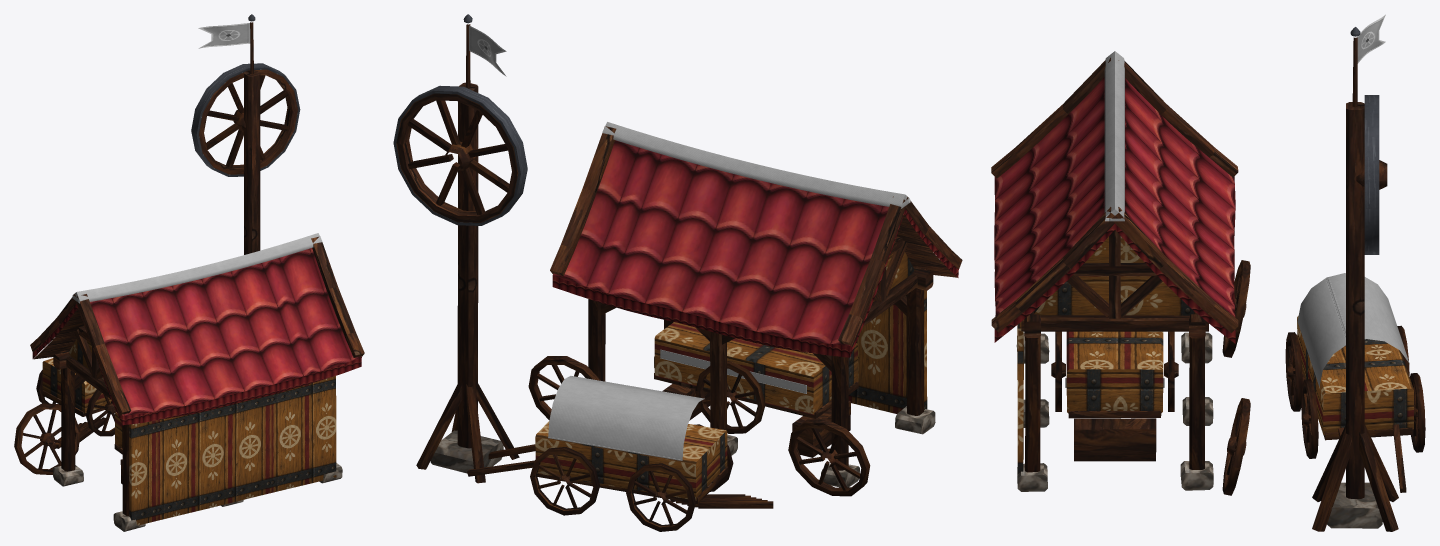
File: kingdom_wainwright_yard.glb
3 renders of one model, left to right at view 1: azimuth 30°, elevation 25°; view 2: azimuth 150°, elevation 25°; view 3: azimuth 270°, elevation 25°, orthographic. The views are drawn at different scales.
Parts seen in each view (by area): view 1: kingdom_wainwright_yard; view 2: kingdom_wainwright_yard; view 3: kingdom_wainwright_yard.
Boxes of the visible parts, box(x1,y1,x2,y2) form: kingdom_wainwright_yard: box(14, 14, 364, 531); kingdom_wainwright_yard: box(393, 14, 962, 531); kingdom_wainwright_yard: box(991, 14, 1425, 531).
Bounding box in the file's own units: 4.38 × 4.59 × 3.7.
2 materials, 2 textured.
